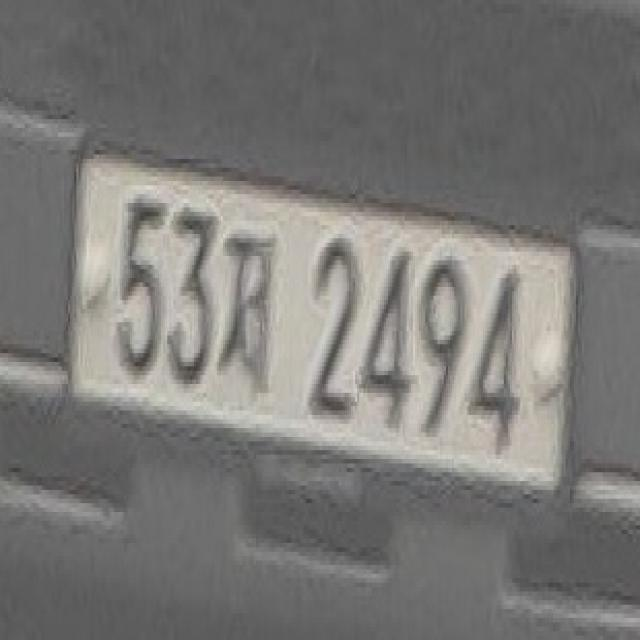2: (306, 194, 357, 437)
3: (165, 190, 215, 415)
4: (466, 243, 536, 477), (355, 220, 421, 446)
5: (116, 181, 163, 388)
9: (408, 238, 471, 468)
jeo: (221, 216, 272, 384)
license_plate: (60, 132, 584, 530)
